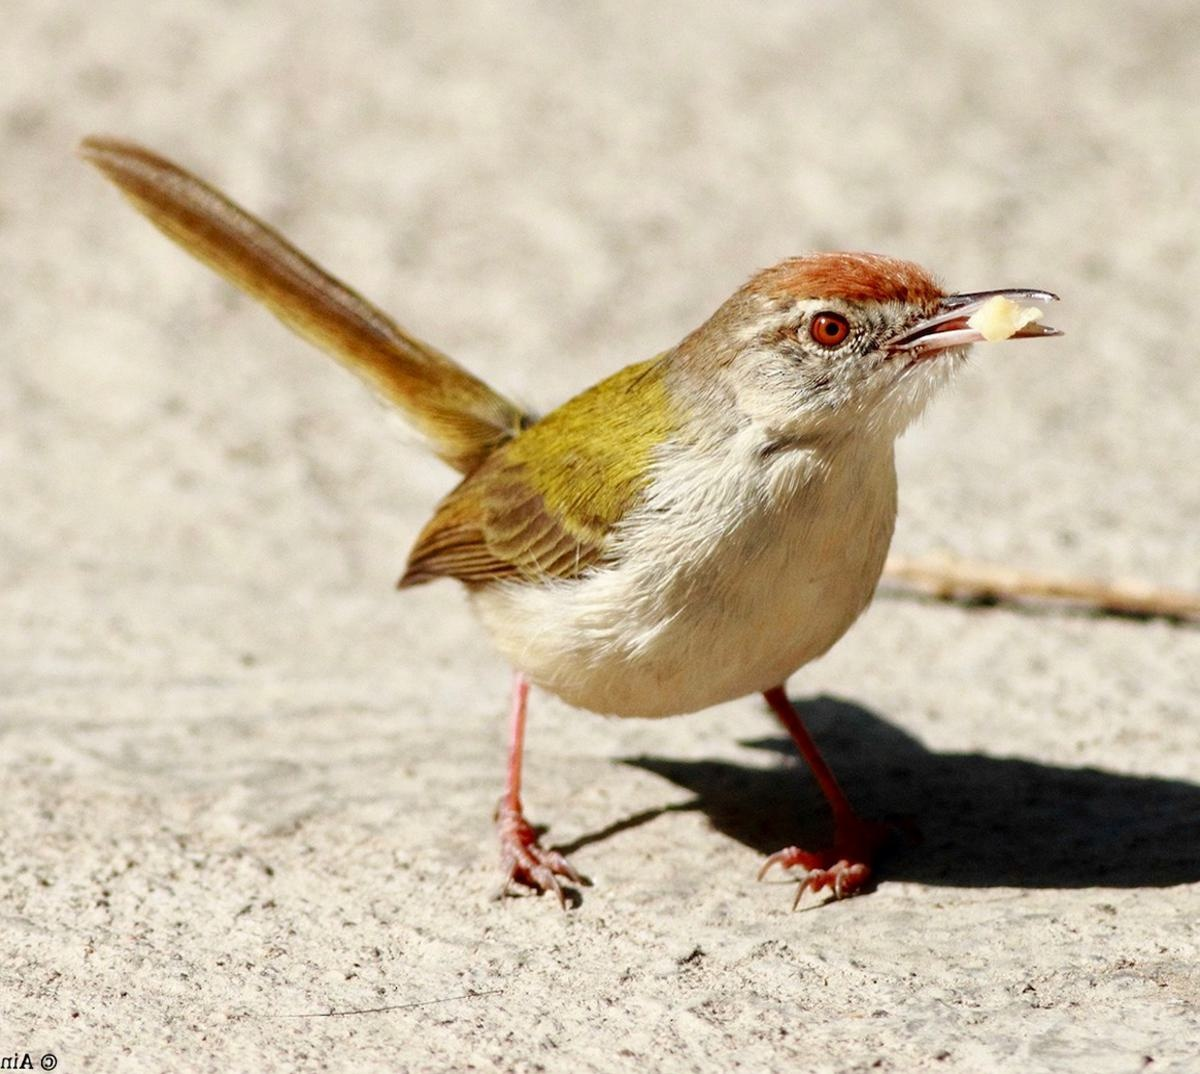tailorbird: (112, 111, 1059, 932)
